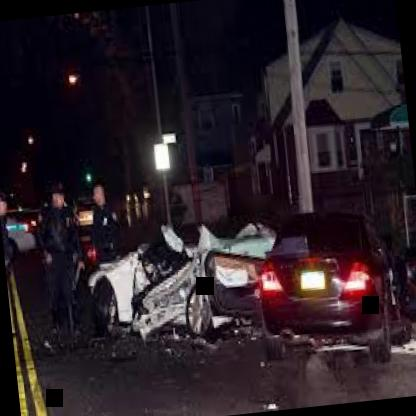accident: (83, 176, 313, 379)
